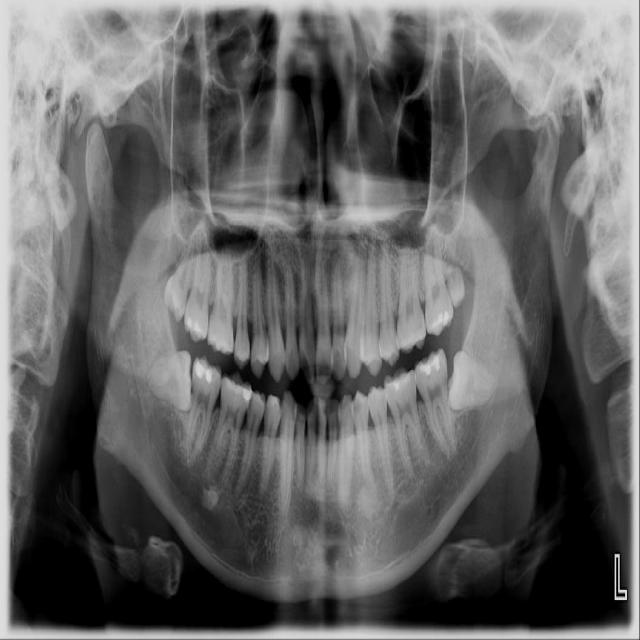Filling: (429, 301, 452, 336), (222, 379, 254, 402), (192, 360, 220, 384), (416, 353, 444, 377), (386, 369, 415, 391), (184, 314, 205, 337)
Periapical lesion: (231, 473, 251, 500), (200, 488, 219, 511)
impacted tooth: (145, 349, 194, 411), (449, 352, 496, 409)
